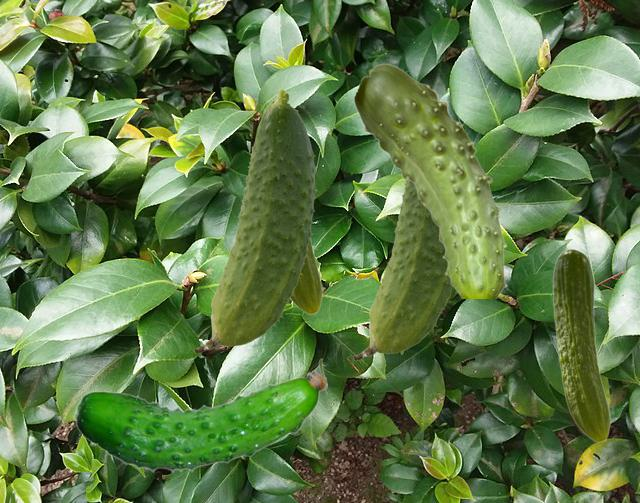cucumber: (353, 63, 507, 297), (194, 88, 316, 352), (72, 358, 326, 472), (353, 181, 452, 359), (552, 248, 610, 442), (290, 237, 322, 314)
